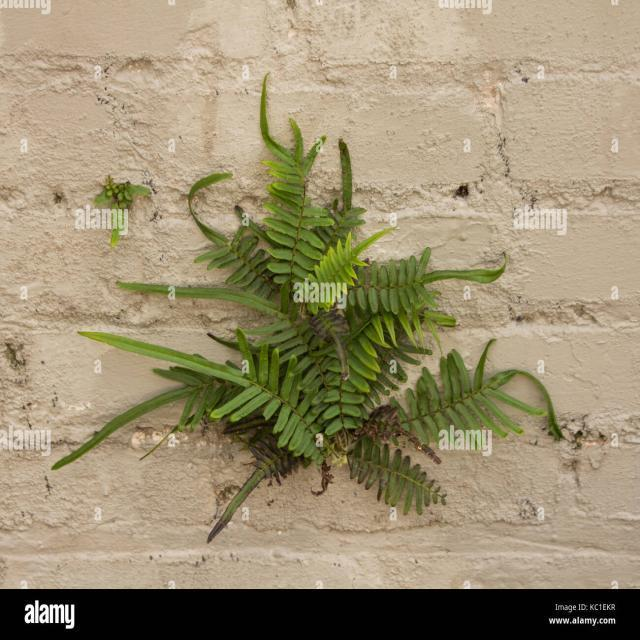vegetation: (50, 70, 564, 543)
